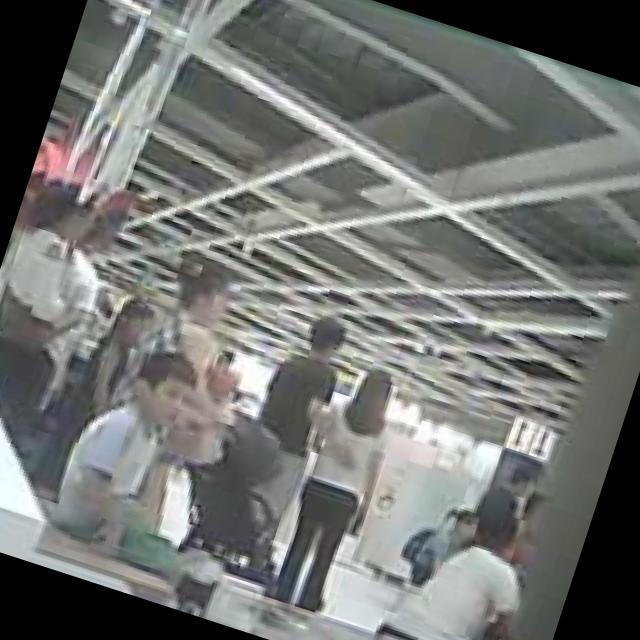person: (48, 332, 252, 571), (256, 354, 414, 618), (212, 306, 358, 570), (0, 168, 128, 425), (133, 260, 280, 474), (361, 484, 548, 640), (0, 174, 114, 402), (64, 285, 158, 444), (144, 247, 238, 361), (396, 477, 488, 584), (473, 448, 546, 546)
